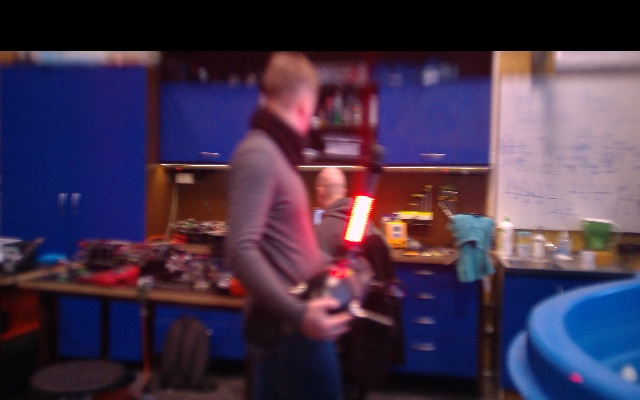red: (343, 194, 375, 249)
